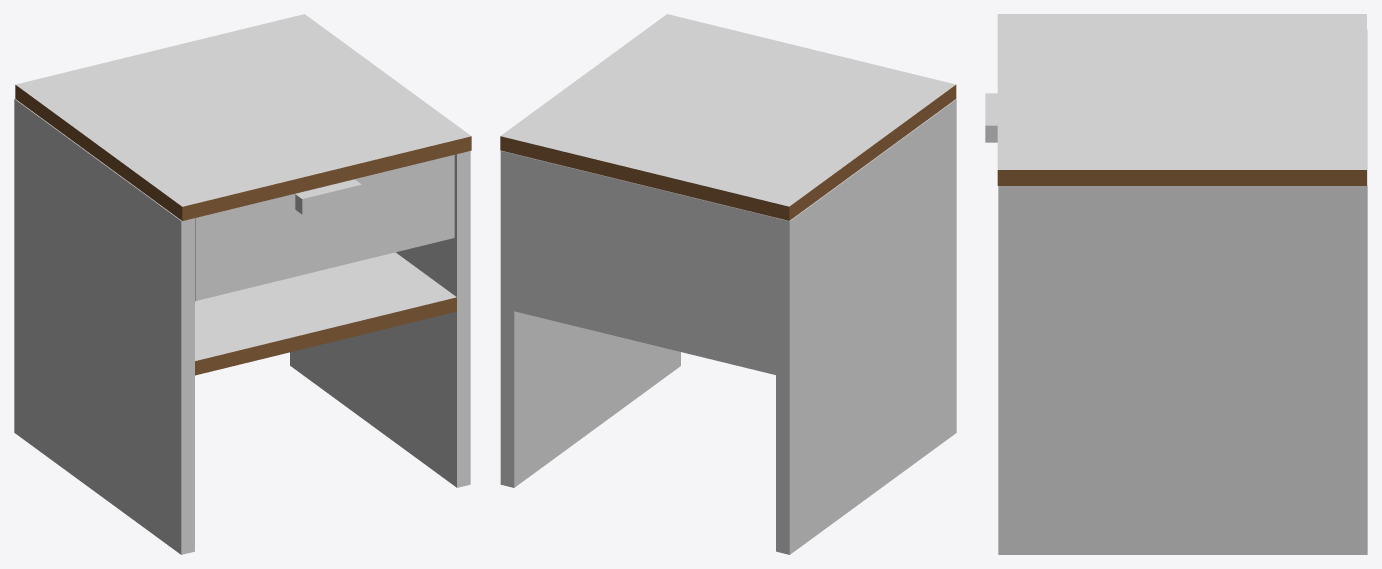
The model's file is bedside_table_tier3.fbx.
3 views of the same model, side by side, from view 1: azimuth 30°, elevation 25°; view 2: azimuth 150°, elevation 25°; view 3: azimuth 270°, elevation 25° (orthographic). The views are drawn at different scales.
Parts seen in each view (by area): view 1: Cube.001; view 2: Cube.001; view 3: Cube.001.
Part boxes in pixels (x1,y1,x2,y2): Cube.001: (14, 14, 471, 554); Cube.001: (500, 14, 956, 554); Cube.001: (985, 14, 1367, 554).
Bounding box in the file's own units: 74.78 × 85.82 × 77.21.
